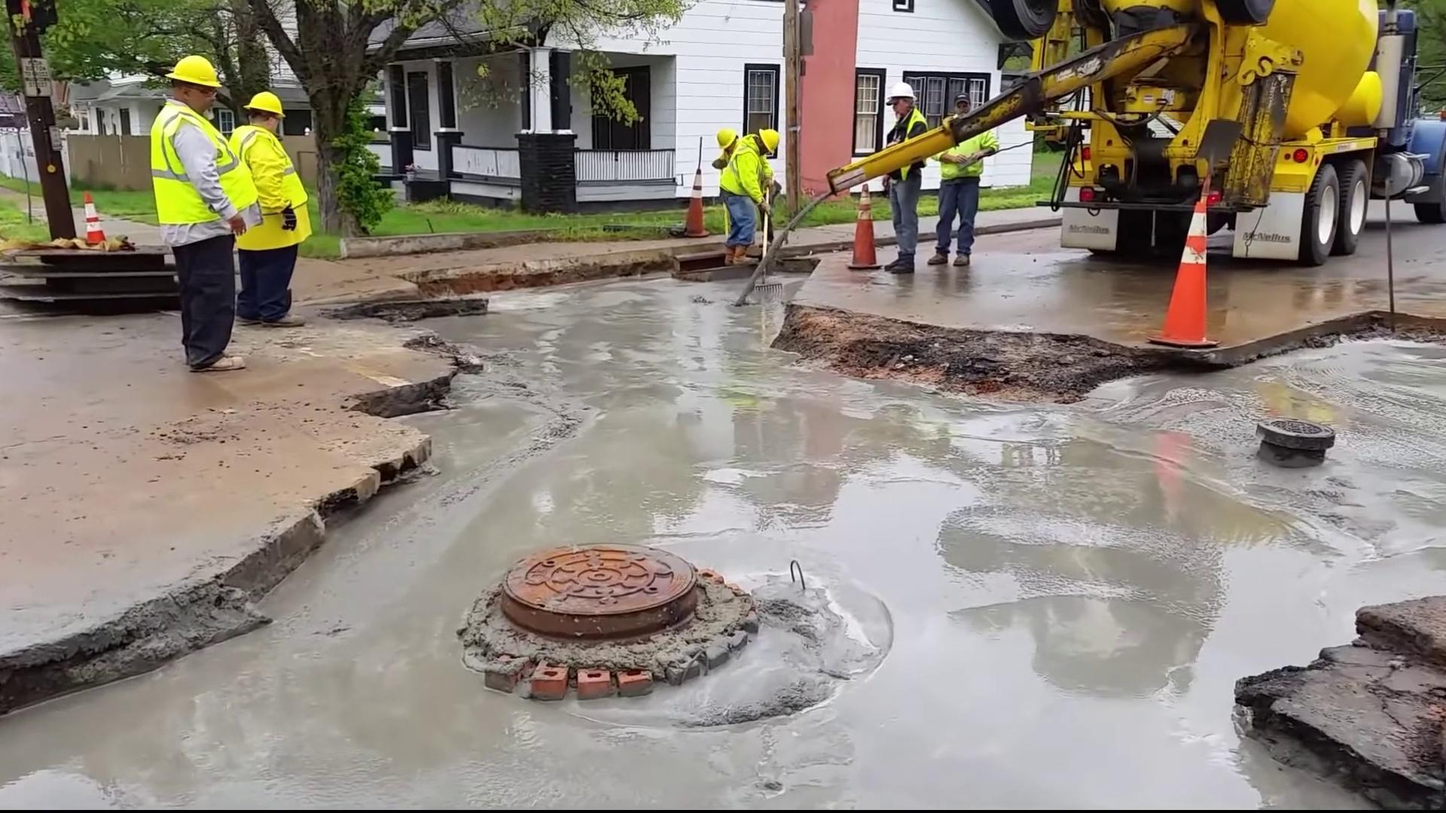apron: (275, 206, 304, 231), (757, 195, 775, 217)
